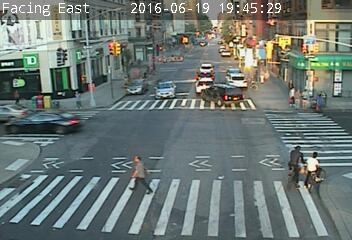neg: (283, 139, 323, 193), (163, 102, 195, 144), (155, 48, 180, 82), (218, 105, 242, 136), (288, 14, 309, 42), (206, 57, 221, 77), (329, 24, 344, 44), (241, 43, 254, 61)
pos: (121, 154, 152, 195), (279, 84, 298, 110), (297, 85, 316, 110), (311, 90, 329, 115), (66, 86, 84, 110), (7, 85, 24, 107)
